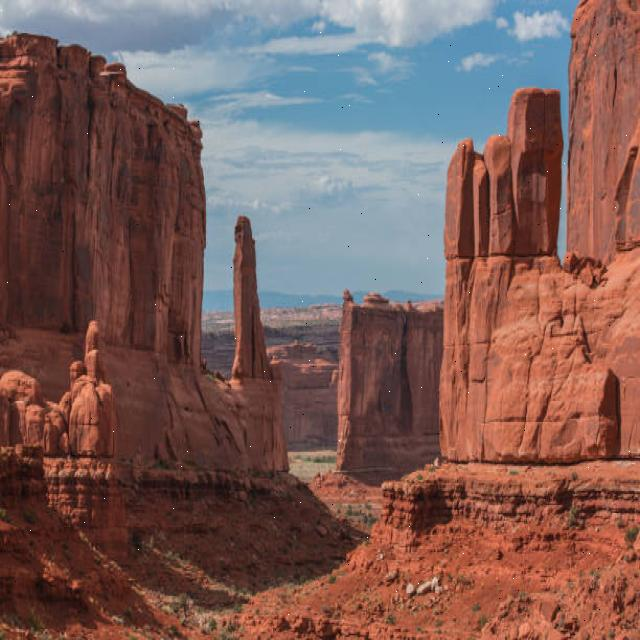Sedimentary: (1, 22, 205, 634), (440, 92, 567, 535), (567, 3, 640, 521), (224, 210, 286, 474)
